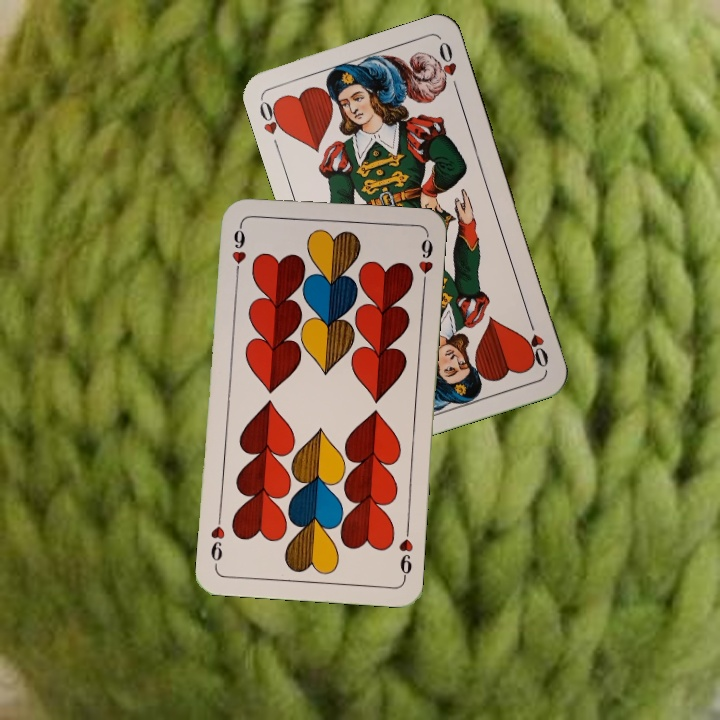H9: (395, 522, 416, 582), (228, 221, 248, 280)
HO: (522, 314, 551, 370), (255, 96, 289, 137)
